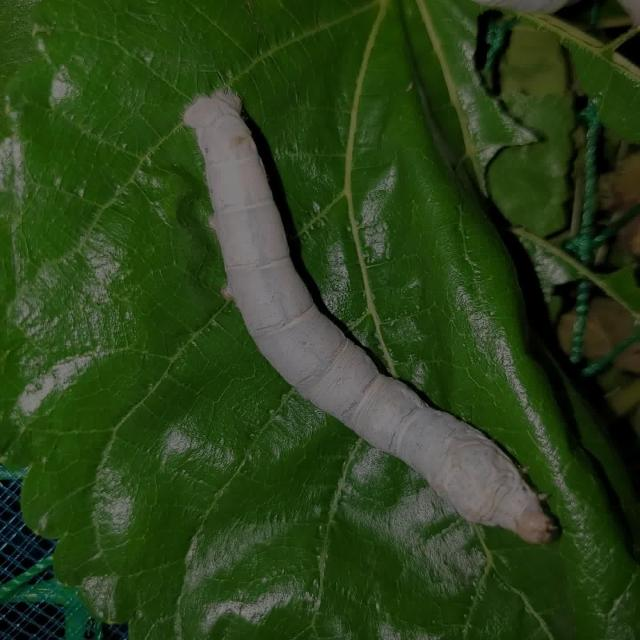Healthy: (154, 57, 566, 559)
